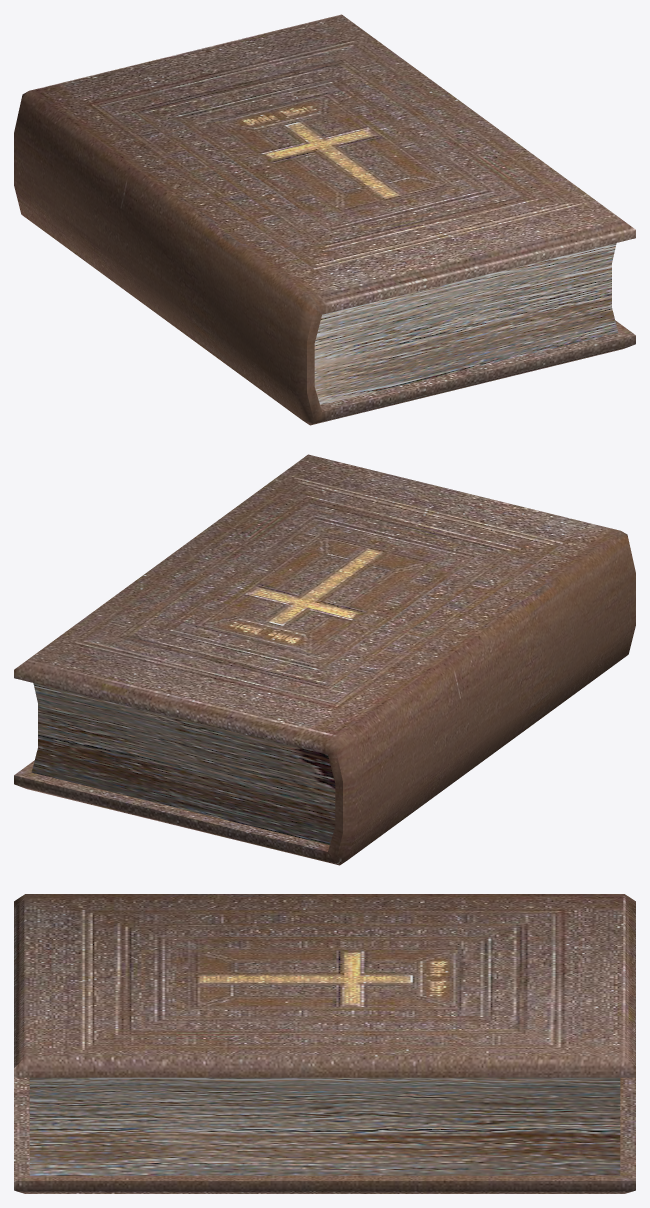
File: M_Home_Garden_Bible.fbx
The picture shows the model from 3 angles, top to bottom: view 1: azimuth 30°, elevation 25°; view 2: azimuth 150°, elevation 25°; view 3: azimuth 270°, elevation 25°; orthographic projection. The views are drawn at different scales.
Visible parts, largest first — view 1: M_Home_Garden_Bible; view 2: M_Home_Garden_Bible; view 3: M_Home_Garden_Bible.
Part boxes in pixels (left/top/right/bottom): M_Home_Garden_Bible: left=14, top=14, right=635, bottom=425; M_Home_Garden_Bible: left=14, top=454, right=635, bottom=865; M_Home_Garden_Bible: left=14, top=894, right=635, bottom=1193.
Bounding box in the file's own units: 61.67 × 22.62 × 92.95.
